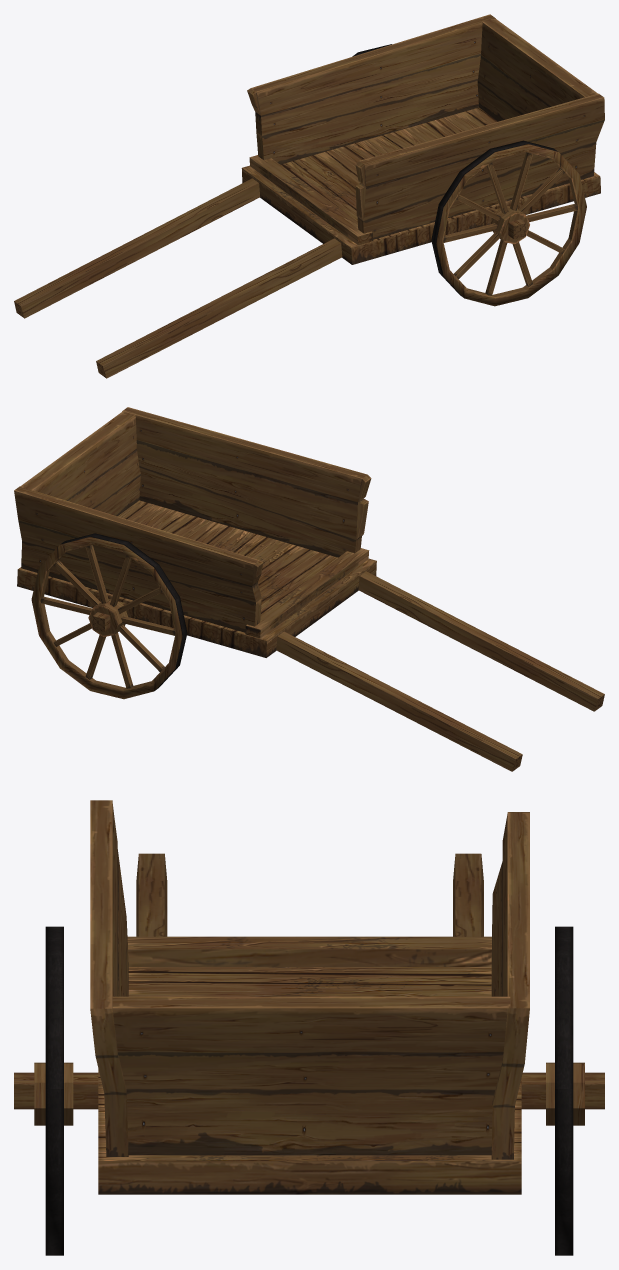
The model's file is fanasty_mod_cart.fbx.
The picture shows the model from 3 angles, top to bottom: view 1: azimuth 30°, elevation 25°; view 2: azimuth 150°, elevation 25°; view 3: azimuth 270°, elevation 25°; orthographic projection. The views are drawn at different scales.
Visible parts, largest first — view 1: cart; view 2: cart; view 3: cart.
Boxes of the visible parts, x1=… form: cart: x1=14, y1=14, x2=604, y2=378; cart: x1=14, y1=407, x2=604, y2=771; cart: x1=14, y1=800, x2=604, y2=1255.
Size of the model in its own units: 5.54 by 1.85 by 2.99.
